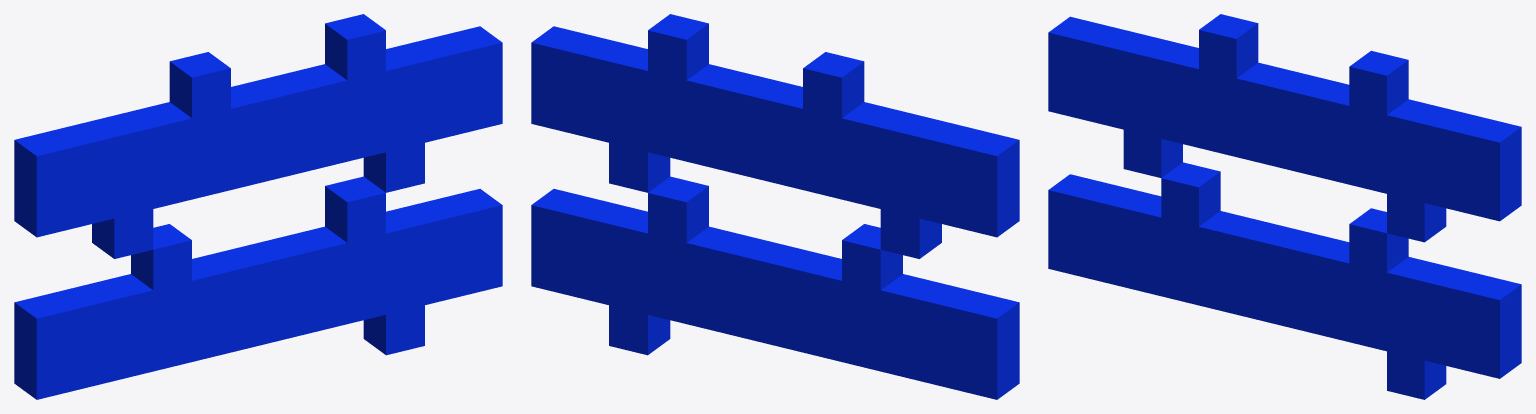
File: MazeBlueLeftLeg-2.vox.obj
The picture shows the model from 3 angles, left to right: view 1: azimuth 30°, elevation 25°; view 2: azimuth 150°, elevation 25°; view 3: azimuth 330°, elevation 25°; orthographic projection. The views are drawn at different scales.
Size of the model in its own units: 1.2 by 0.8 by 0.1.
Materials: 1 (1 with a texture image).
